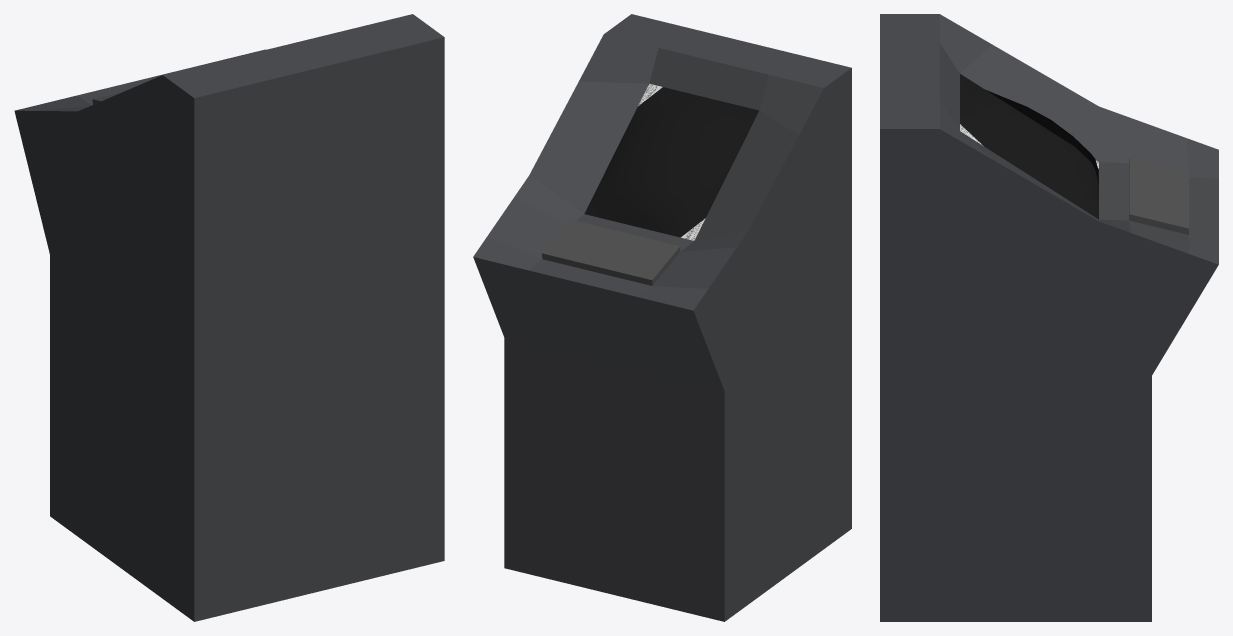
The model's file is Terminal.fbx.
The picture shows the model from 3 angles, left to right: view 1: azimuth 30°, elevation 25°; view 2: azimuth 150°, elevation 25°; view 3: azimuth 270°, elevation 25°; orthographic projection. The views are drawn at different scales.
Visible parts, largest first — view 1: Terminal; view 2: Terminal; view 3: Terminal.
Part boxes in pixels (left/top/right/bottom): Terminal: left=14, top=14, right=444, bottom=621; Terminal: left=473, top=14, right=851, bottom=621; Terminal: left=880, top=14, right=1218, bottom=621.
Size of the model in its own units: 80 by 99.64 by 160.
4 materials, 1 textured.
